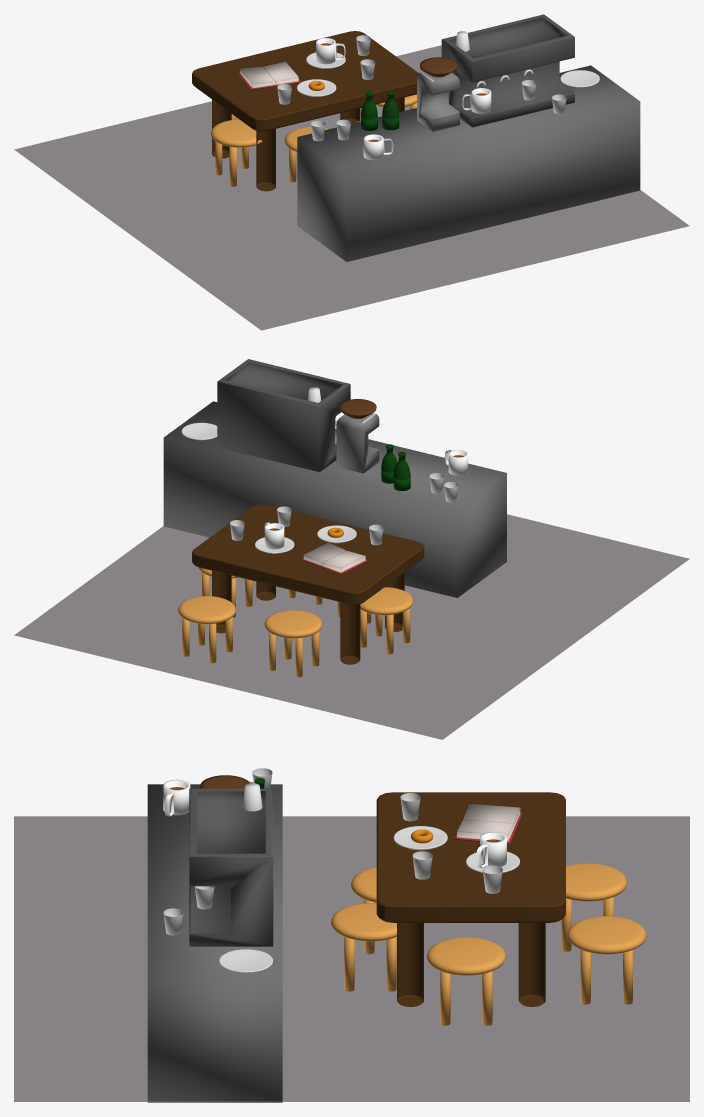
File: Coffee_Scene.glb
3 renders of one model, top to bottom at view 1: azimuth 30°, elevation 25°; view 2: azimuth 150°, elevation 25°; view 3: azimuth 270°, elevation 25°, orthographic. The views are drawn at different scales.
Visible parts, largest first — view 1: Floor, Counter, Table.004, CoffeeMachine.001, Cube.001, Table.003, Stool.003, Book, Stool.005, CoffeeCup.002, CoffeeCup.001, CoffeeCup (+3 smaller); view 2: Floor, Counter, Table.004, CoffeeMachine.001, Cube.001, Table.003, Stool, Stool.002, Stool.003, Book, Stool.001; view 3: Floor, Counter, Table.004, CoffeeMachine.001, Table.003, Stool.001, Stool.002, Stool.004, Stool, Book, PlateStack, CoffeeCup (+4 smaller).
Part boxes in pixels (x1,y1,x2,y2): Floor: [14, 45, 689, 330]; Counter: [297, 65, 640, 261]; Table.004: [192, 31, 418, 131]; CoffeeMachine.001: [441, 14, 574, 127]; Cube.001: [417, 57, 459, 131]; Table.003: [212, 97, 404, 191]; Stool.003: [210, 119, 262, 186]; Book: [237, 61, 300, 90]; Stool.005: [284, 126, 329, 182]; CoffeeCup.002: [363, 134, 393, 160]; CoffeeCup.001: [462, 88, 491, 113]; CoffeeCup: [316, 38, 345, 64]; Floor: [14, 514, 689, 739]; Counter: [163, 401, 506, 597]; Table.004: [192, 504, 424, 604]; CoffeeMachine.001: [217, 359, 350, 472]; Cube.001: [336, 399, 379, 473]; Table.003: [212, 571, 404, 664]; Stool: [264, 610, 322, 677]; Stool.002: [178, 596, 236, 663]; Stool.003: [360, 587, 413, 654]; Book: [301, 542, 368, 574]; Stool.001: [198, 567, 252, 617]; Floor: [14, 816, 689, 1101]; Counter: [147, 784, 282, 1102]; Table.004: [376, 792, 565, 922]; CoffeeMachine.001: [189, 788, 273, 946]; Table.003: [397, 923, 545, 1006]; Stool.001: [427, 937, 506, 1025]; Stool.002: [567, 916, 646, 1004]; Stool.004: [331, 903, 396, 991]; Stool: [561, 863, 627, 951]; Book: [454, 803, 522, 844]; PlateStack: [219, 949, 272, 972]; CoffeeCup: [476, 832, 506, 868].
Bounding box in the file's own units: 10 × 3.65 × 10.
14 materials, 5 textured.
